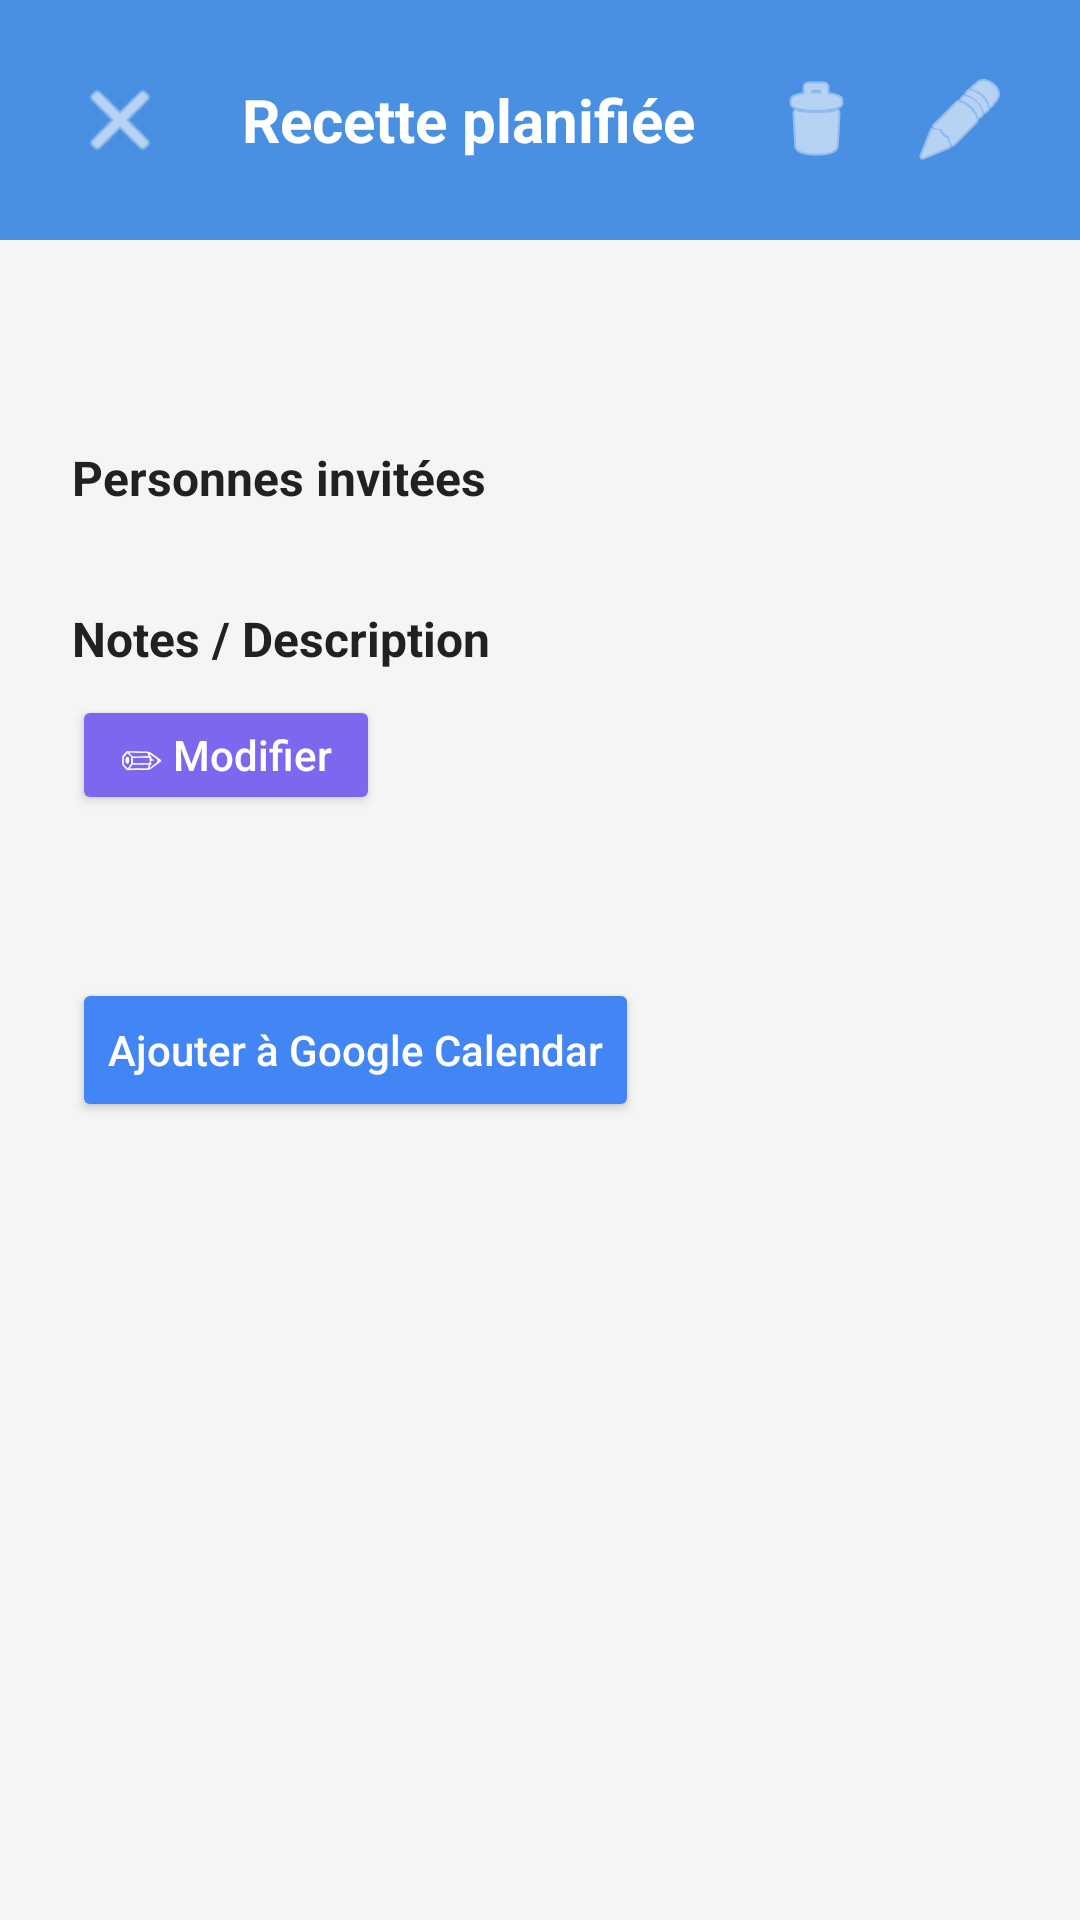

Icon bounding boxes for this 1080*1920 phone screenshot, format region(x1, y1, x2, y2):
Modifier: region(919, 79, 1000, 160)
Supprimer: region(790, 81, 843, 156)
